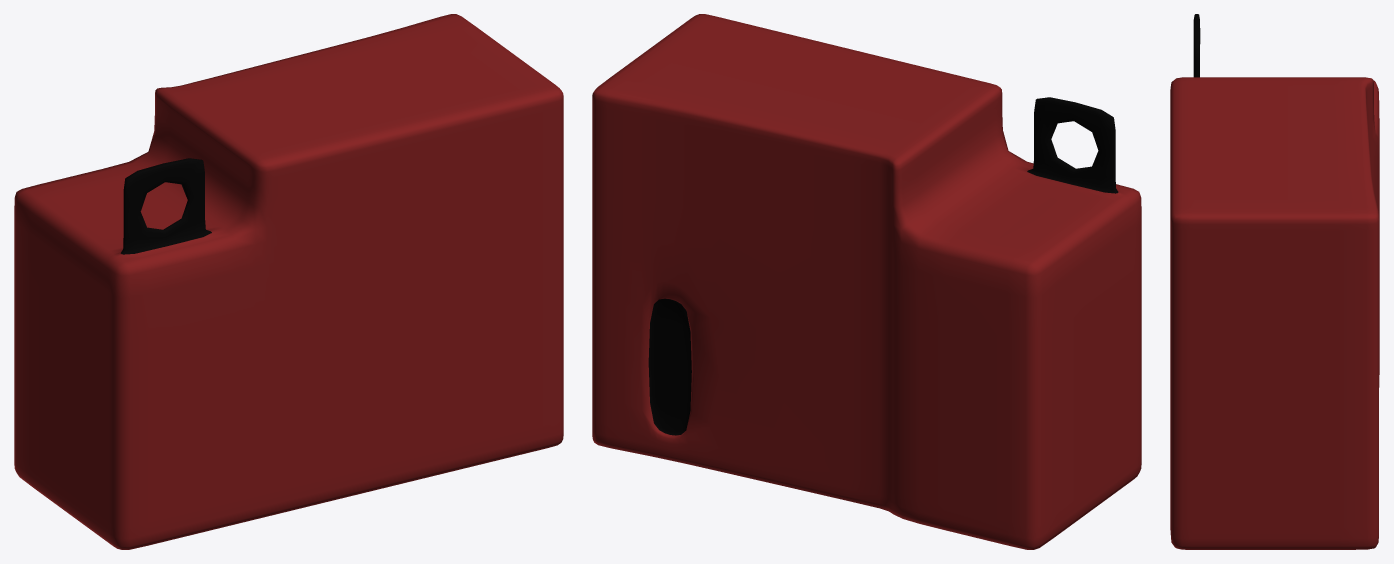
The model's file is АСГ.fbx.
3 renders of one model, left to right at view 1: azimuth 30°, elevation 25°; view 2: azimuth 150°, elevation 25°; view 3: azimuth 270°, elevation 25°, orthographic. The views are drawn at different scales.
Parts seen in each view (by area): view 1: Cube; view 2: Cube; view 3: Cube.
Boxes of the visible parts, <box> form: Cube: <box>14,14,563,549</box>; Cube: <box>592,14,1141,549</box>; Cube: <box>1170,14,1379,549</box>.
Bounding box in the file's own units: 21 × 16.5 × 9.
